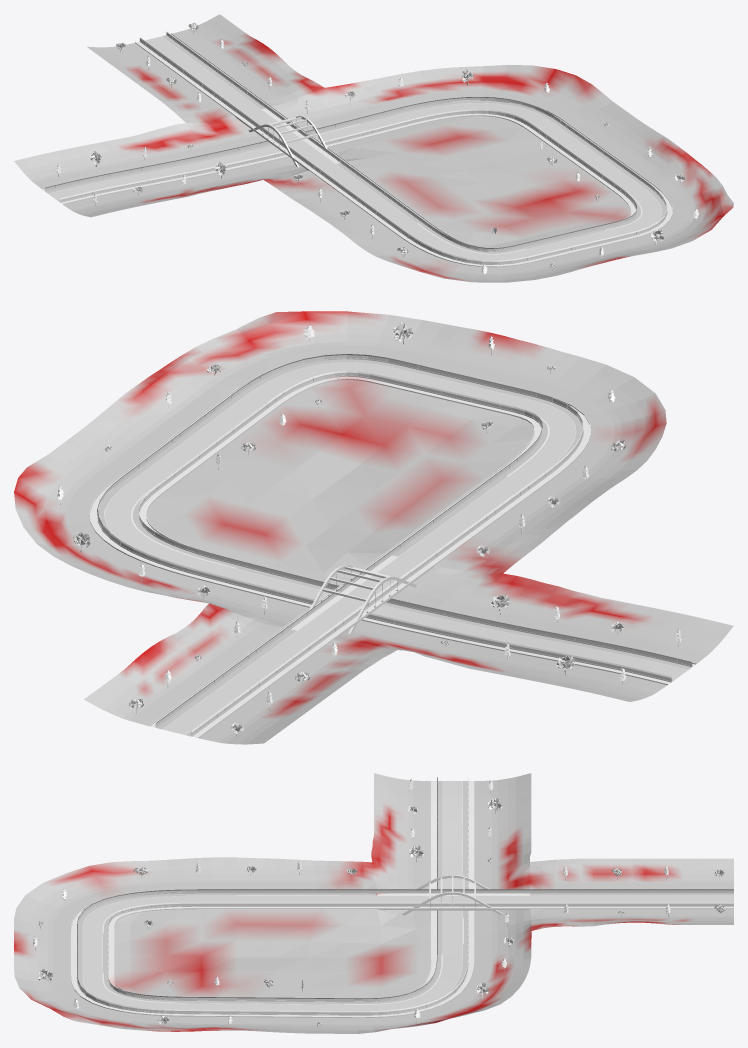
3 renders of one model, top to bottom at view 1: azimuth 30°, elevation 25°; view 2: azimuth 150°, elevation 25°; view 3: azimuth 270°, elevation 25°, orthographic. The views are drawn at different scales.
Visible parts, largest first — view 1: Grass, Road, Track, Wirefence, Trees; view 2: Grass, Road, Track, Wirefence, Trees; view 3: Grass, Road, Track, Wirefence, Trees.
Boxes of the visible parts, x1=… form: Grass: x1=14, y1=14, x2=733, y2=282; Road: x1=48, y1=36, x2=661, y2=260; Track: x1=42, y1=32, x2=672, y2=267; Wirefence: x1=44, y1=32, x2=667, y2=263; Trees: x1=56, y1=22, x2=698, y2=275; Grass: x1=14, y1=311, x2=733, y2=744; Road: x1=105, y1=362, x2=687, y2=734; Track: x1=89, y1=354, x2=696, y2=738; Wirefence: x1=97, y1=354, x2=692, y2=735; Trees: x1=57, y1=322, x2=681, y2=736; Grass: x1=14, y1=773, x2=733, y2=1033; Road: x1=83, y1=781, x2=733, y2=1011; Track: x1=71, y1=780, x2=733, y2=1017; Wirefence: x1=77, y1=777, x2=733, y2=1014; Trees: x1=33, y1=778, x2=724, y2=1027.
Size of what is drawn, in the model's own units: 54000 by 2486 by 64000.
